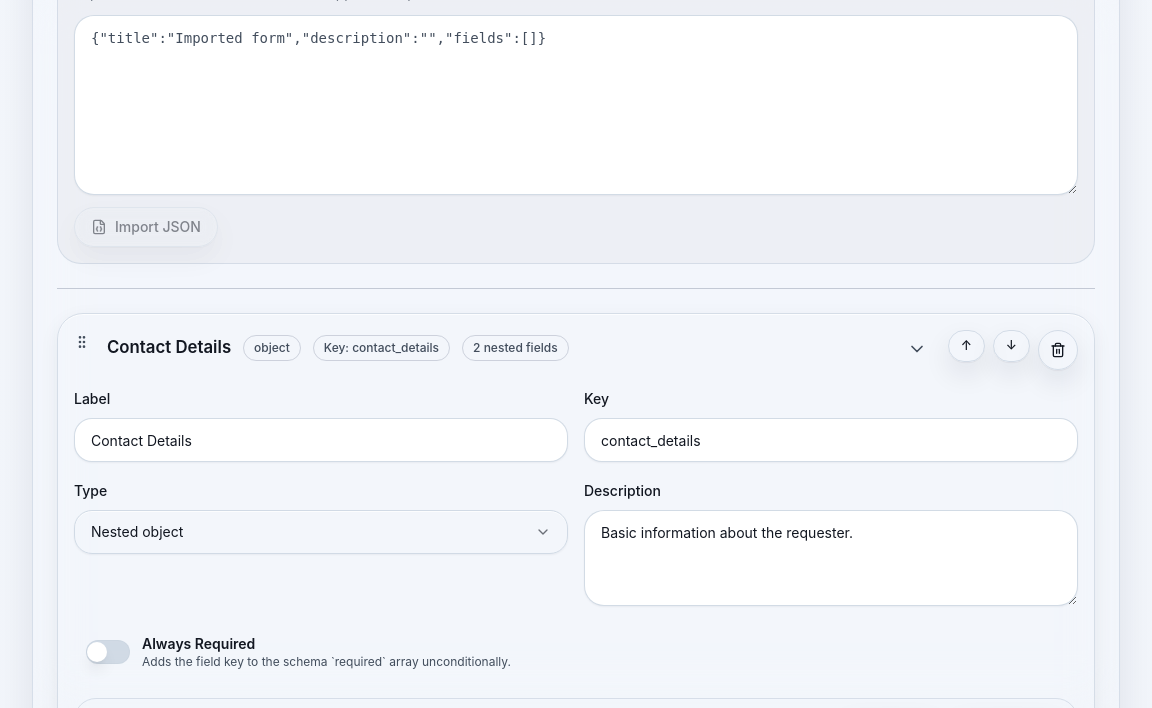
Test: JsonSchemaFormBuilderApp › collapses and expands field editor cards
This screenshot has width=1152, height=708.
(page scrolled)
Expected: the text "Key: contact_details" is shown, [313,335,450,361]
Click the button named "Collapse Contact Details" at [517, 348], box [102,330,932,366]
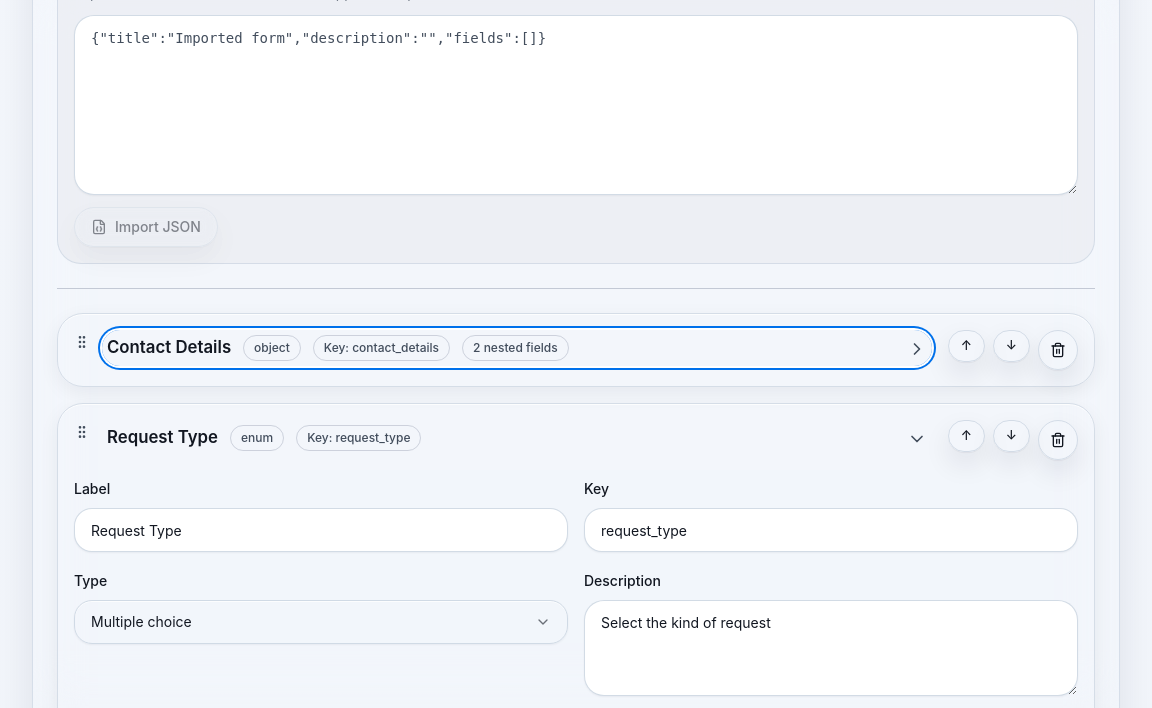
Expected: the button named "Expand Contact Details" is shown
Click the button named "Expand Contact Details" at [517, 348], box [102,330,932,366]
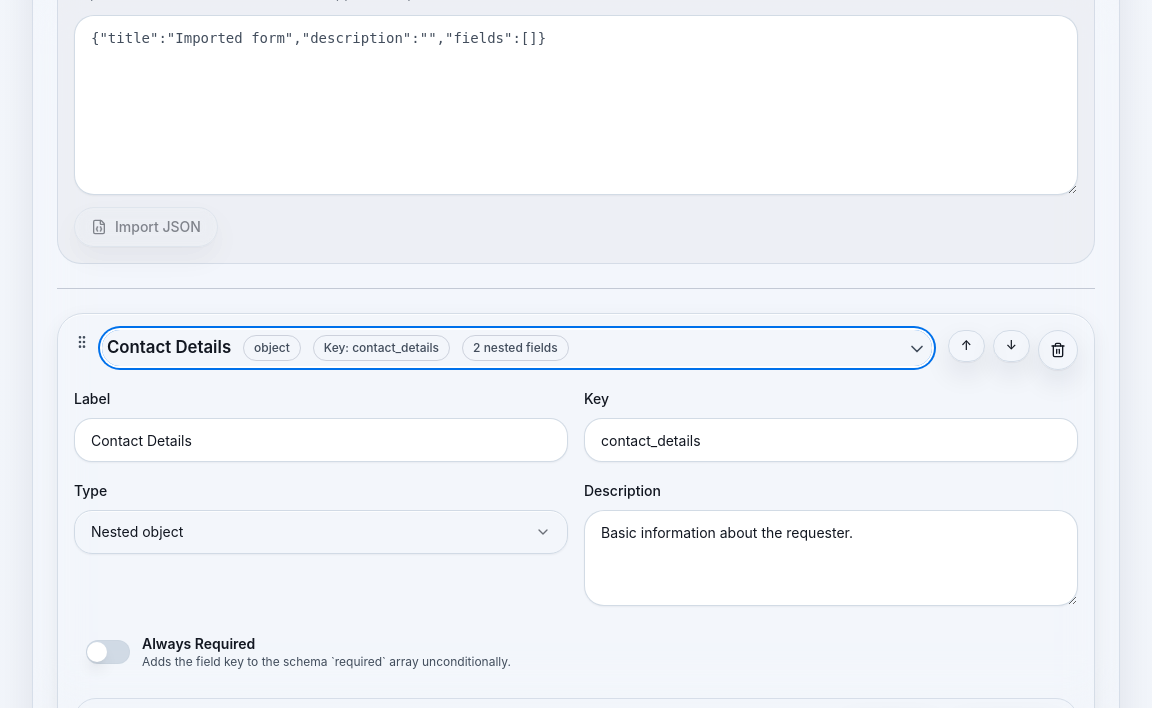
Expected: the field showing "Contact Details" is shown, [74,418,568,462]
